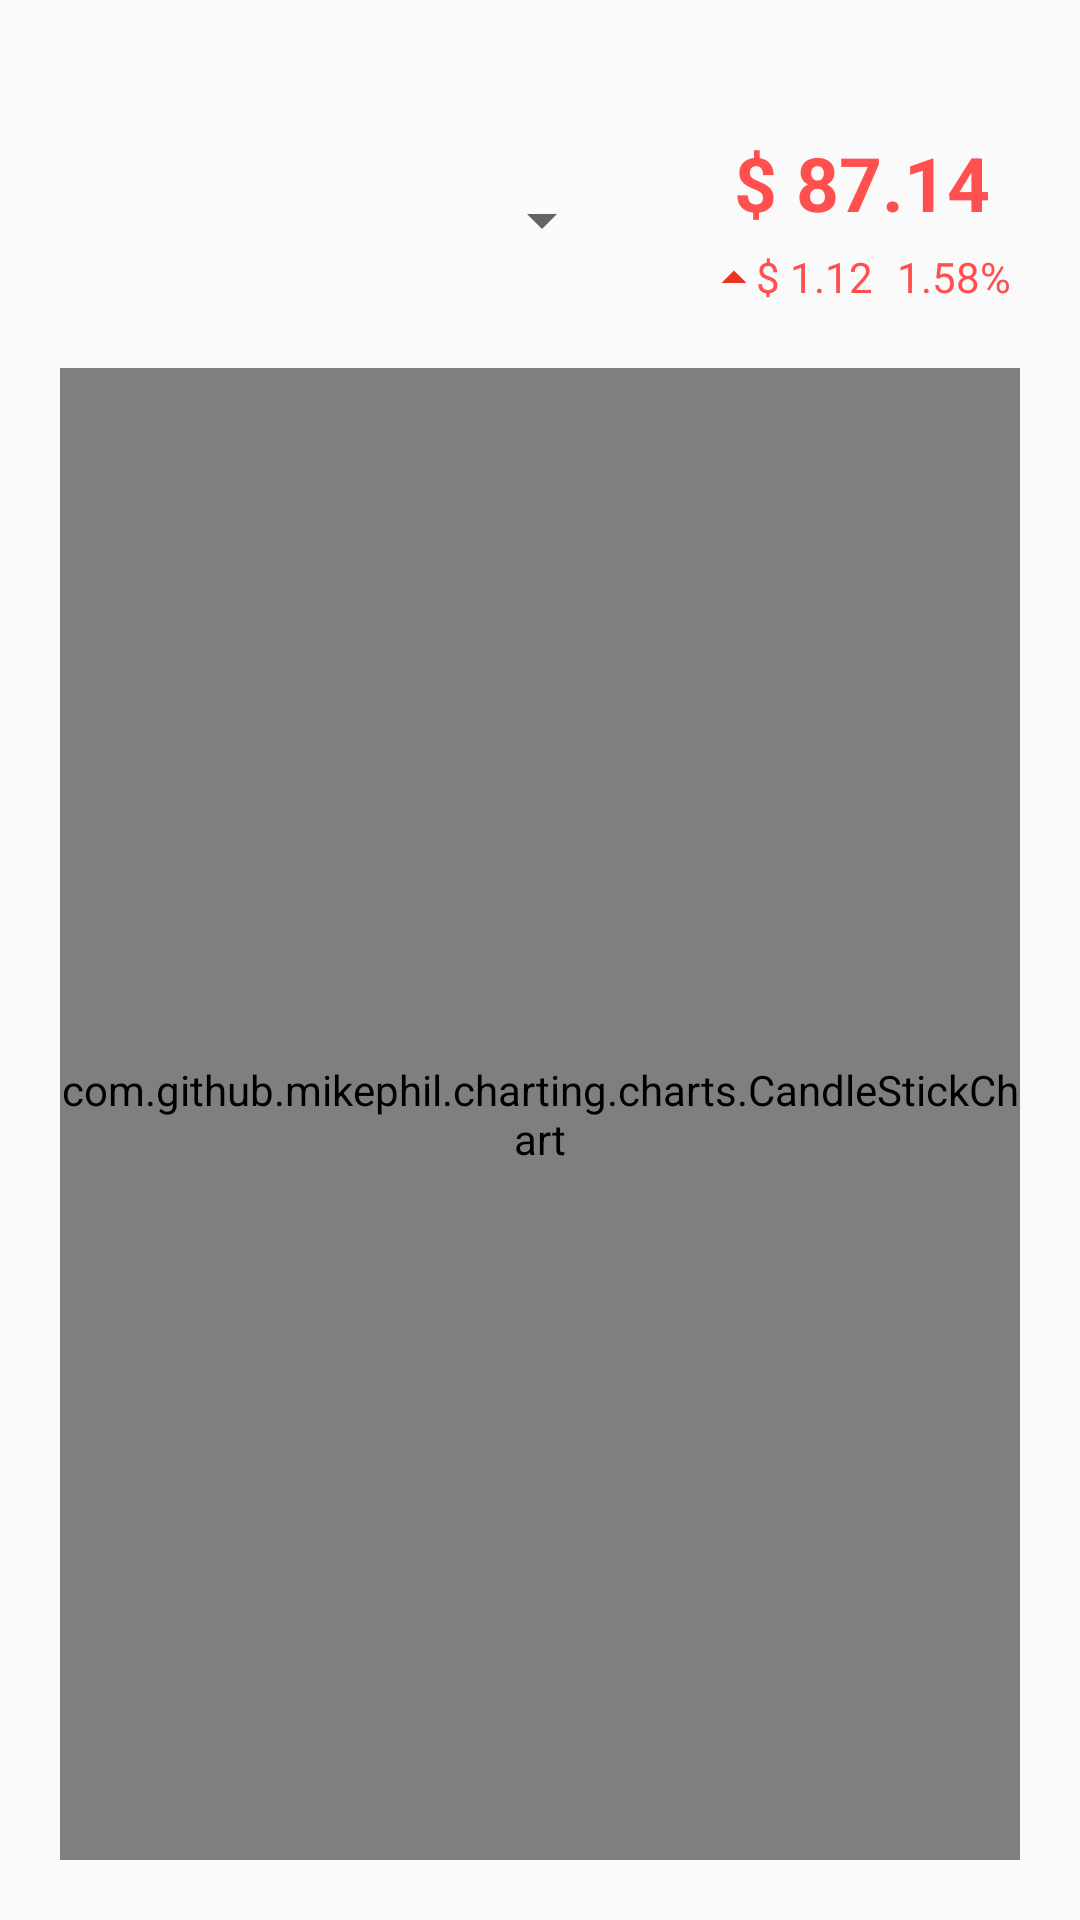

Icons on this 1080 x 1920 Android screen, each with its box as (x1, y1, x2, y2):
rising: (721, 270, 747, 283)
